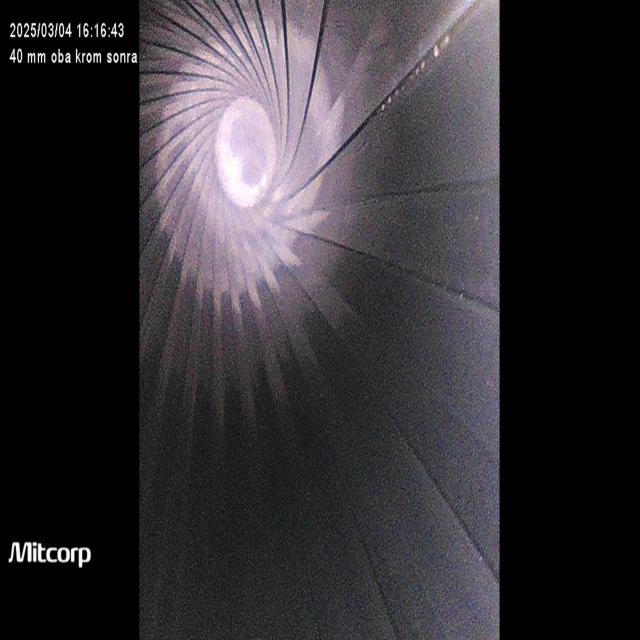hata_8.1: (360, 7, 486, 133)
